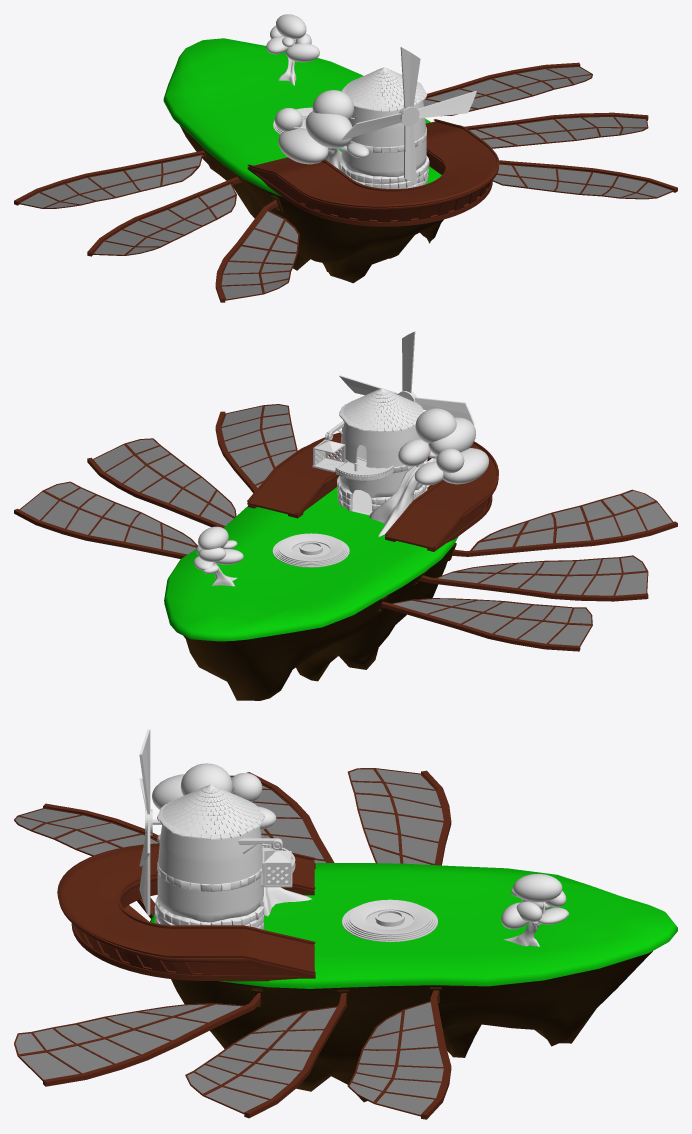
3 renders of one model, top to bottom at view 1: azimuth 30°, elevation 25°; view 2: azimuth 150°, elevation 25°; view 3: azimuth 270°, elevation 25°, orthographic. The views are drawn at different scales.
Visible parts, largest first — view 1: ST_Island, _Terrace, ST_Moulin, _Wing_01, _Wing_02, _Wing_03, _Wing_06, _Wing_05, Sphere001, _Wing_04, Sphere008, Cube.001 (+3 smaller); view 2: ST_Island, _Terrace, _Wing_01, _Wing_02, ST_Moulin, _Wing_03, _Wing_04, _Wing_05, _Wing_06, Sphere001, Cylinder002, Sphere008 (+5 smaller); view 3: ST_Island, _Terrace, ST_Moulin, _Wing_06, _Wing_05, _Wing_04, _Wing_03, _Wing_01, Cylinder002, _Wing_02, Sphere001, Sphere008 (+3 smaller).
Part boxes in pixels (x1,y1,x2,y2): ST_Island: (163, 38, 443, 283); _Terrace: (247, 119, 499, 226); ST_Moulin: (339, 67, 429, 188); _Wing_01: (215, 199, 299, 302); _Wing_02: (87, 177, 241, 256); _Wing_03: (14, 150, 205, 208); _Wing_06: (492, 160, 677, 199); _Wing_05: (464, 112, 648, 148); Sphere001: (274, 90, 369, 164); _Wing_04: (423, 62, 592, 116); Sphere008: (266, 14, 319, 62); Cube.001: (417, 91, 476, 118); ST_Island: (164, 487, 458, 700); _Terrace: (247, 432, 498, 551); _Wing_01: (451, 489, 677, 556); _Wing_02: (418, 555, 648, 601); ST_Moulin: (337, 388, 427, 515); _Wing_03: (380, 598, 592, 651); _Wing_04: (14, 481, 197, 558); _Wing_05: (87, 438, 236, 527); _Wing_06: (215, 404, 297, 493); Sphere001: (398, 408, 488, 485); Cylinder002: (272, 533, 349, 567); Sphere008: (193, 526, 243, 573); ST_Island: (150, 863, 677, 1102); _Terrace: (57, 843, 315, 981); ST_Moulin: (154, 784, 264, 929); _Wing_06: (14, 993, 260, 1086); _Wing_05: (185, 993, 346, 1118); _Wing_04: (347, 990, 451, 1119); _Wing_03: (347, 768, 451, 865); _Wing_01: (14, 803, 159, 856); Cylinder002: (342, 899, 437, 942); _Wing_02: (230, 772, 334, 863); Sphere001: (152, 763, 276, 842); Sphere008: (501, 874, 569, 929).
Bounding box in the file's own units: 14063 × 6899 × 11453.
